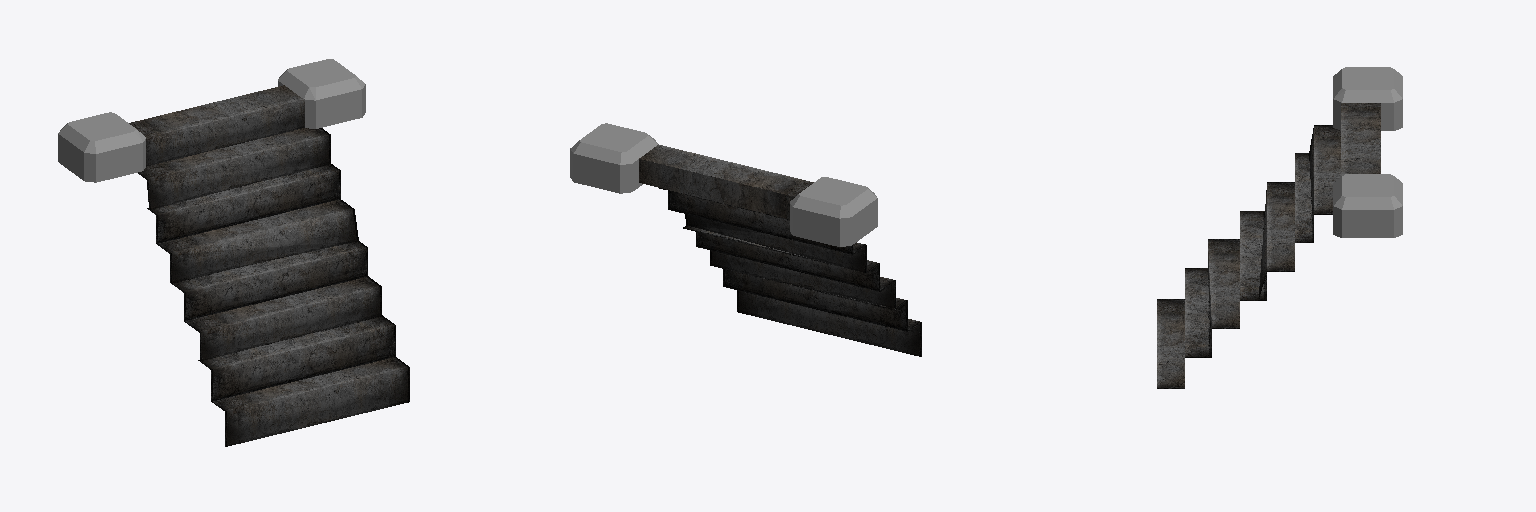
3 views of the same model, side by side, from view 1: azimuth 30°, elevation 25°; view 2: azimuth 150°, elevation 25°; view 3: azimuth 270°, elevation 25° (orthographic).
Visible parts, largest first — view 1: Grim_Bear_Stairs_Up; view 2: Grim_Bear_Stairs_Up; view 3: Grim_Bear_Stairs_Up.
Part boxes in pixels (left/top/right/bottom): Grim_Bear_Stairs_Up: left=58, top=59, right=409, bottom=446; Grim_Bear_Stairs_Up: left=570, top=123, right=921, bottom=356; Grim_Bear_Stairs_Up: left=1157, top=67, right=1402, bottom=388.
Bounding box in the file's own units: 329 × 277 × 249.
2 materials, 1 textured.